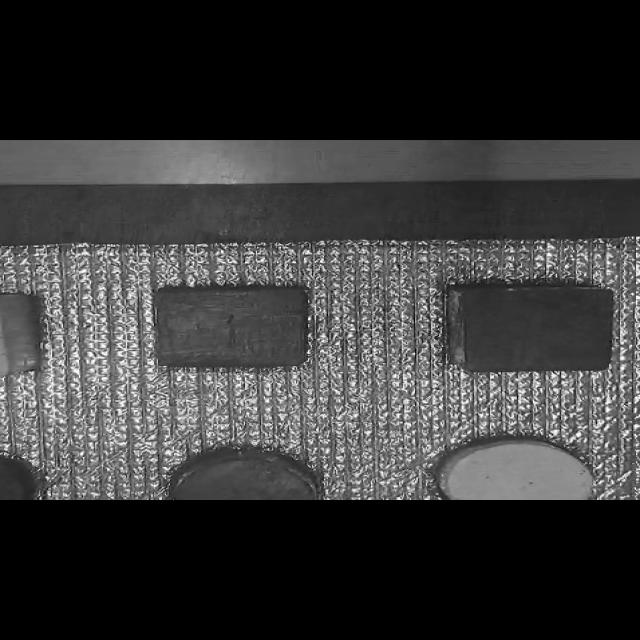bcube: (150, 289, 312, 375)
rcircle: (148, 440, 333, 503)
rcube: (421, 276, 626, 386)
ycircle: (414, 436, 604, 502)
